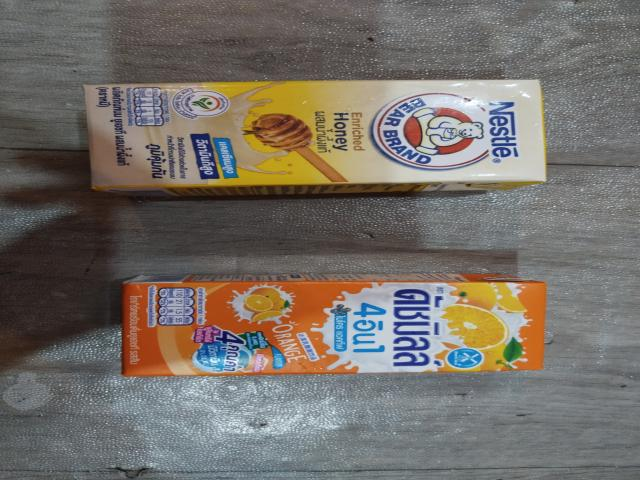drink_box: (67, 75, 557, 200), (107, 269, 562, 386)
